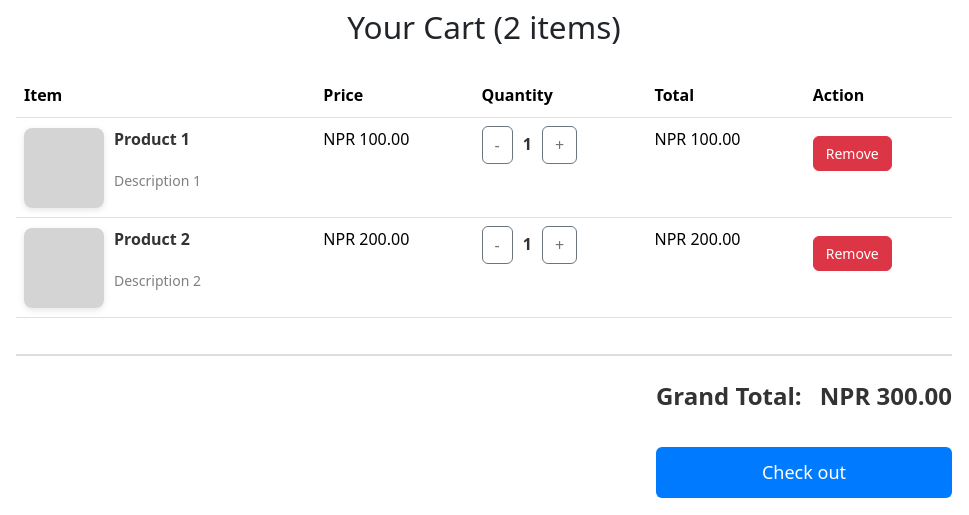
Scenario: CartPage Component - Remove Cart Item › should handle removing an item from the cart
The image size is (969, 515).
Expected: the text "Product 1" is shown, [114,126,201,153]
Expected: the text "Product 2" is shown, [114,226,201,253]
Click the button "Remove" in the row of "Product 1": (852, 154) [813,136,892,171]
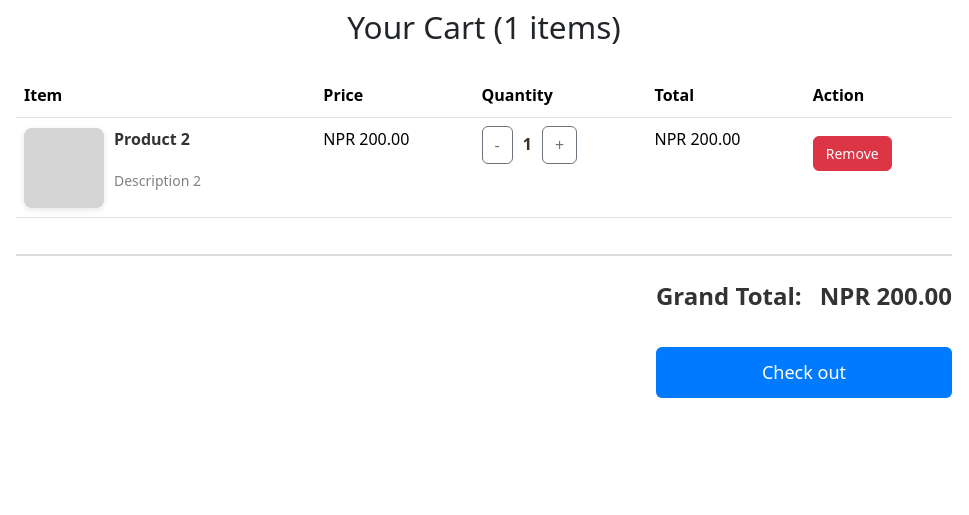
Expected: the text "Product 1" is gone
